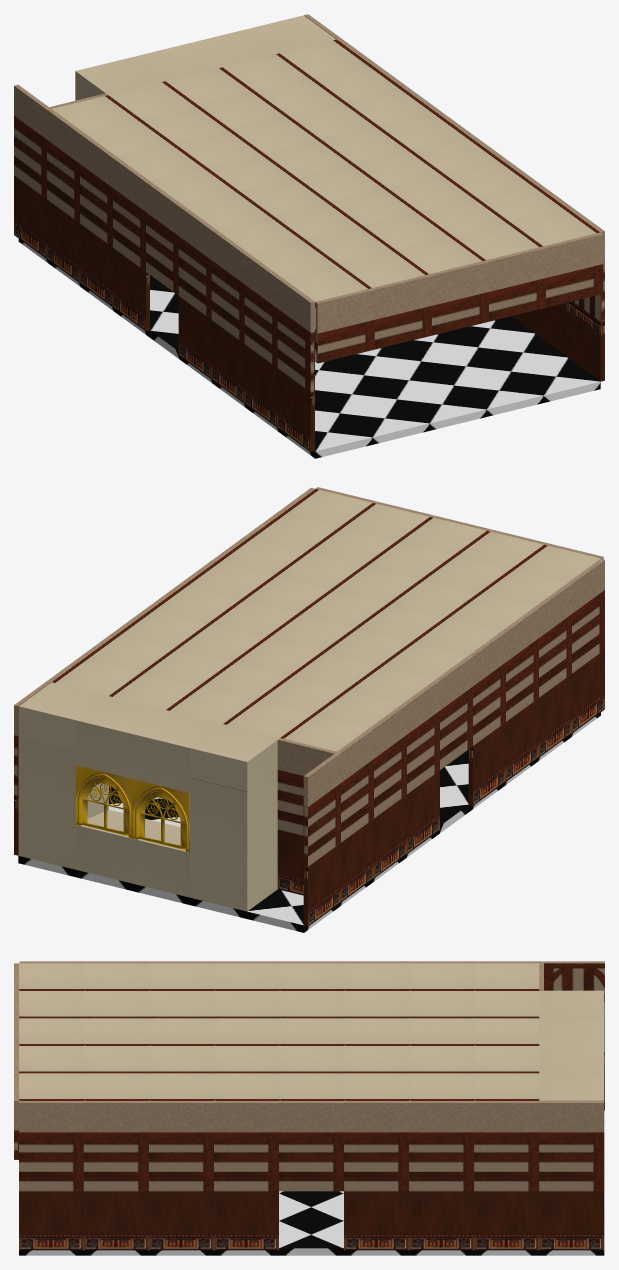
The model's file is DiningRoom.fbx.
The picture shows the model from 3 angles, top to bottom: view 1: azimuth 30°, elevation 25°; view 2: azimuth 150°, elevation 25°; view 3: azimuth 270°, elevation 25°; orthographic projection.
Parts seen in each view (by area): view 1: DiningRoomCeiling, DiningRoomFloorTiles, DiningRoomWallB1Left, DiningRoomWallB2Left, DiningRoomWallB2Front, DiningRoomWallB1Front.001, DiningRoomWallB0Left, DiningRoomWallB0Left.001, DiningRoomWindow, DiningRoomWallB0Right, DiningRoomWallB2Right, DiningRoomWallB1Right; view 2: DiningRoomCeiling, DiningRoomWindow, DiningRoomWallB1Left, DiningRoomWallB2Left, DiningRoomWallB0Left.001, DiningRoomWallB0Left, DiningRoomFloorTiles, DiningRoomWallWindow, DiningRoomWallWindow.001, DiningRoomWallB0Back, DiningRoomWallB1Back, DiningRoomWallB2Right (+2 smaller); view 3: DiningRoomCeiling, DiningRoomWallB1Right, DiningRoomWallB2Right, DiningRoomWallB0Right.001, DiningRoomWallB0Right, DiningRoomFloorTiles, DiningRoomWindow, DiningRoomWallB2Left, DiningRoomWallB2Front.
Part boxes in pixels (<box>): DiningRoomCeiling: <box>52,39,599,302</box>; DiningRoomFloorTiles: <box>18,239,600,458</box>; DiningRoomWallB1Left: <box>14,116,314,392</box>; DiningRoomWallB2Left: <box>14,84,314,332</box>; DiningRoomWallB2Front: <box>315,232,603,333</box>; DiningRoomWallB1Front.001: <box>315,264,603,363</box>; DiningRoomWallB0Left: <box>178,296,314,451</box>; DiningRoomWallB0Left.001: <box>14,175,149,331</box>; DiningRoomWindow: <box>75,15,336,100</box>; DiningRoomWallB0Right: <box>512,301,604,381</box>; DiningRoomWallB2Right: <box>304,14,604,261</box>; DiningRoomWallB1Right: <box>573,261,604,321</box>; DiningRoomCeiling: <box>51,489,600,751</box>; DiningRoomWindow: <box>18,682,279,911</box>; DiningRoomWallB1Left: <box>303,590,604,866</box>; DiningRoomWallB2Left: <box>303,559,604,806</box>; DiningRoomWallB0Left.001: <box>303,770,439,926</box>; DiningRoomWallB0Left: <box>468,650,604,805</box>; DiningRoomFloorTiles: <box>18,712,600,932</box>; DiningRoomWallWindow: <box>132,779,189,852</box>; DiningRoomWallWindow.001: <box>75,765,132,838</box>; DiningRoomWallB0Back: <box>277,829,303,895</box>; DiningRoomWallB1Back: <box>277,770,303,835</box>; DiningRoomWallB2Right: <box>14,488,314,735</box>; DiningRoomCeiling: <box>19,963,539,1100</box>; DiningRoomWallB1Right: <box>19,1132,604,1191</box>; DiningRoomWallB2Right: <box>19,1101,604,1132</box>; DiningRoomWallB0Right.001: <box>344,1191,604,1250</box>; DiningRoomWallB0Right: <box>19,1191,278,1250</box>; DiningRoomFloorTiles: <box>19,1191,604,1255</box>; DiningRoomWindow: <box>539,990,604,1100</box>; DiningRoomWallB2Left: <box>19,961,604,992</box>; DiningRoomWallB2Front: <box>14,963,18,1130</box>.
Size of the model in its own units: 1030 by 525 by 1817.
